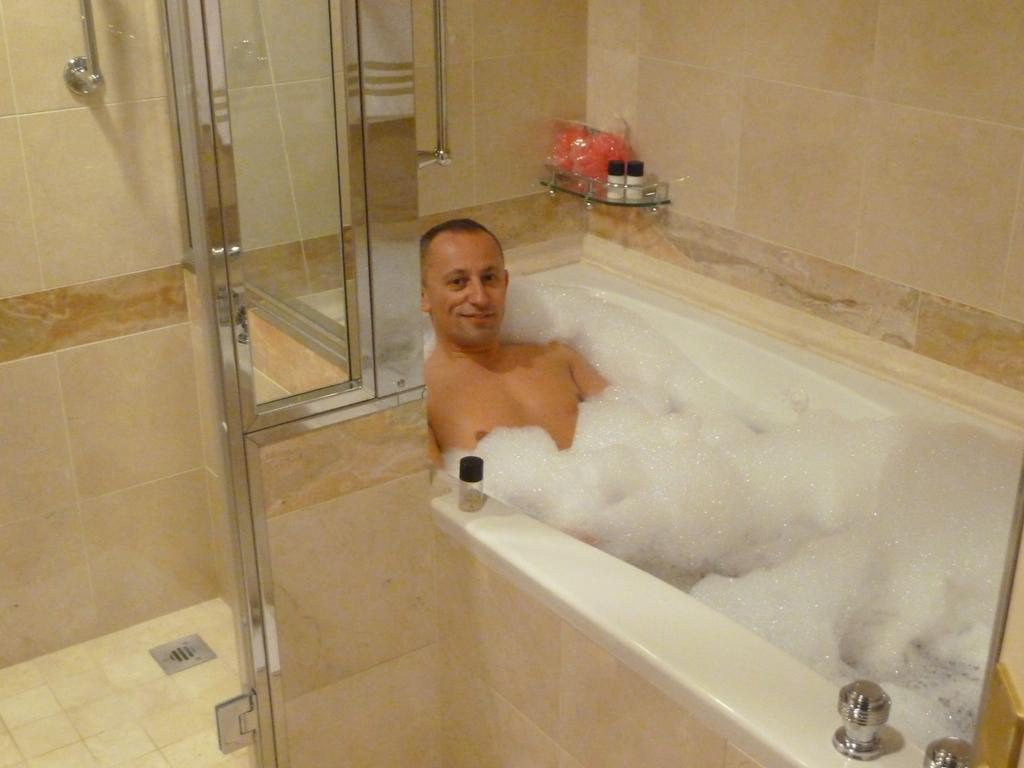Sem Máscara: (423, 231, 503, 343)
